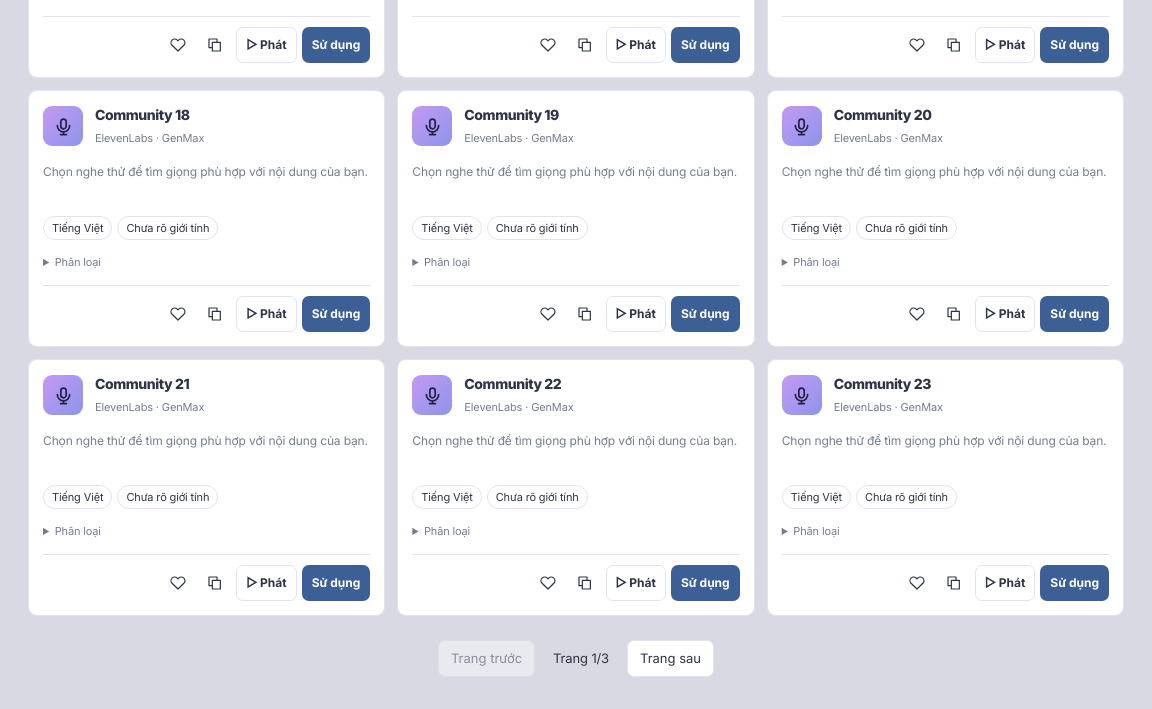
Test case: pages a large library and searches across pages with a language filter
The width and height of the screenshot is (1152, 709).
(page scrolled)
Click the button "Trang sau". click: (670, 659)
box: top-left (627, 640), bottom-right (714, 677)
(page scrolled)
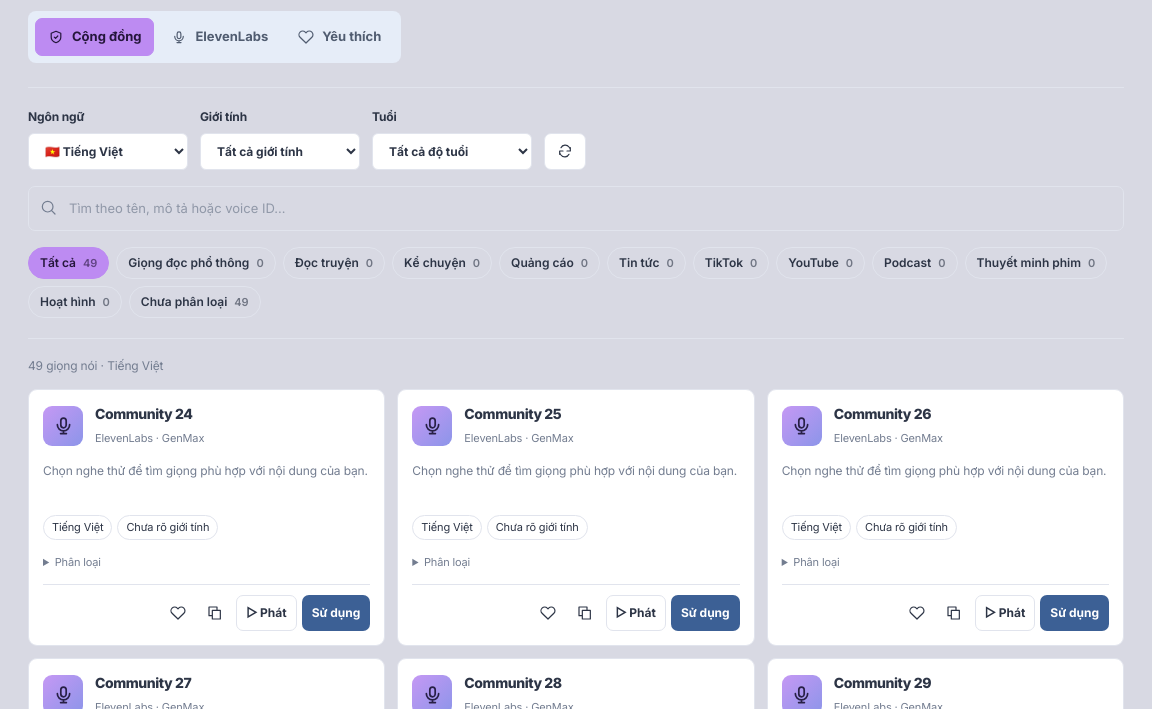
Expected: the heading "Community 24" is shown, top-left (95, 404), bottom-right (204, 424)
Type "Community 48" into the field named "Tìm giọng". click: (590, 208)
box: top-left (69, 186), bottom-right (1111, 230)
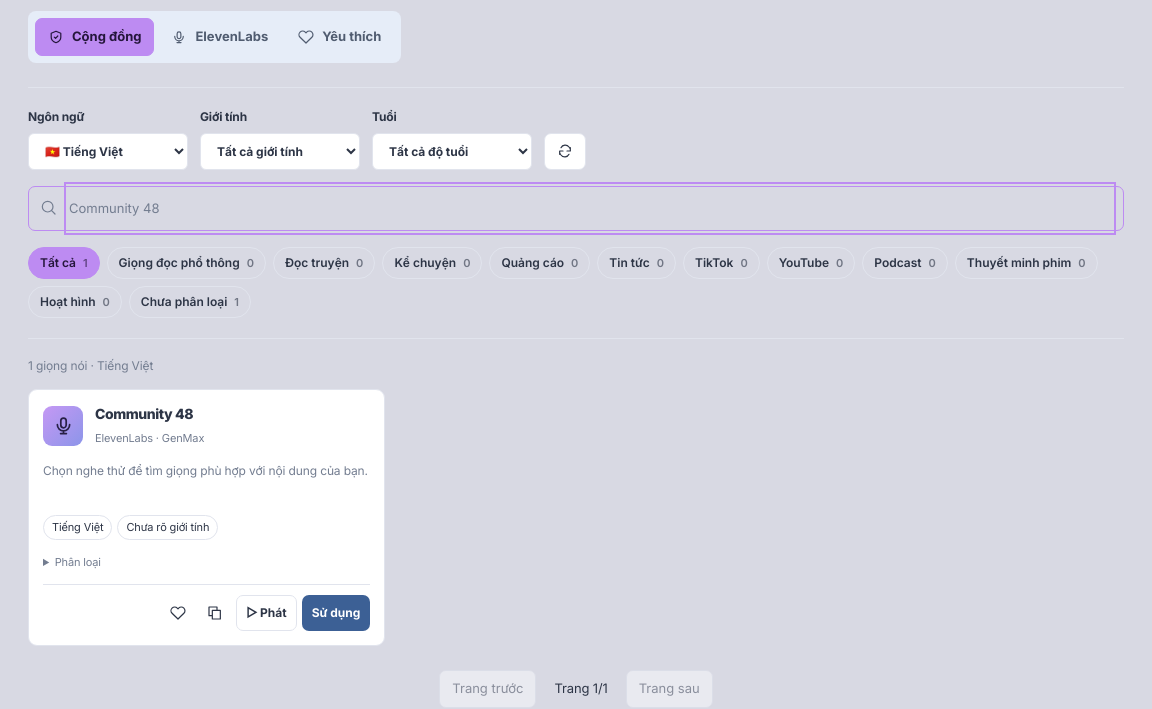
Expected: the dropdown named "Ngôn ngữ giọng" is disabled, top-left (28, 132), bottom-right (188, 170)
Expected: the number of elements with test id "voice-card" is 1, top-left (28, 389), bottom-right (385, 646)
Expected: the heading "Community 48" is shown, top-left (95, 404), bottom-right (204, 424)
Replace the text in the field named "Tìm giọng" with "Community 49". click: (590, 208)
box: top-left (69, 186), bottom-right (1111, 230)
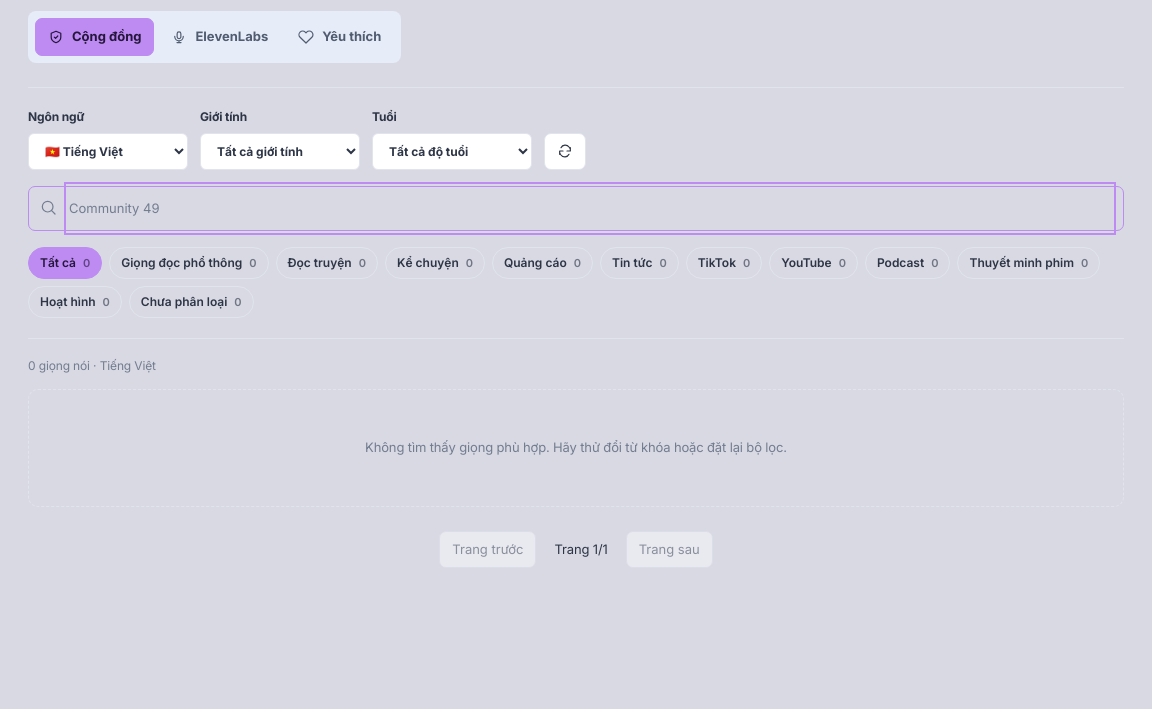
Expected: no elements with test id "voice-card" are shown
